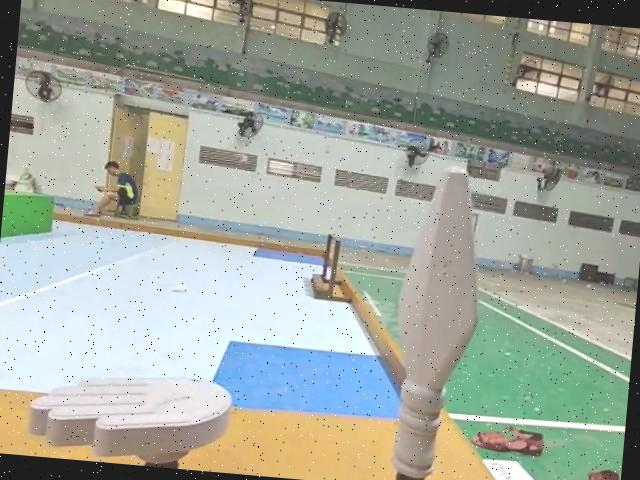Hand: (25, 359, 233, 473)
Sph: (378, 159, 495, 480)
